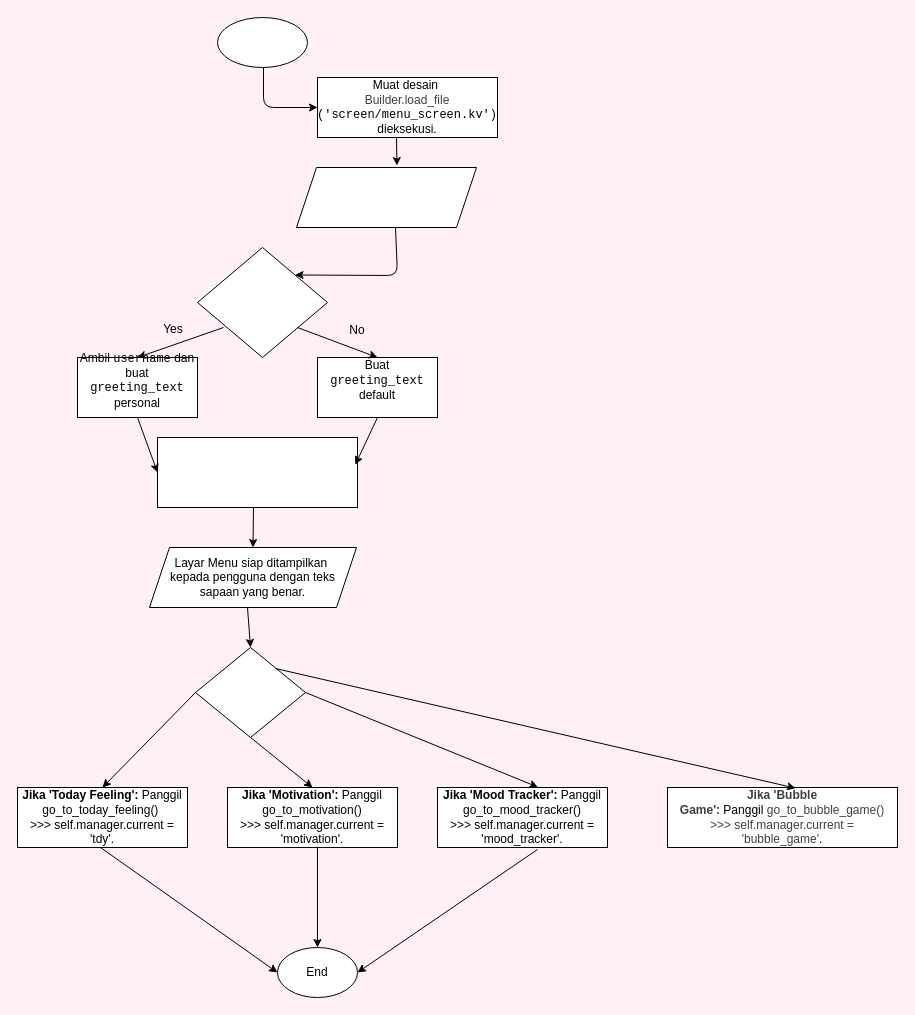
Image size: 915x1015. Some labels were removed from this diagram. The shapes that lost their labels are listed below. From the top down, each one's centre as x and y in pixels, then its label:
At (x=262, y=42): "Start".
At (x=386, y=197): "on_enter() : Men uScreen.on_enter() otomatis dipanggil.".
At (x=262, y=302): "pengecekan kondisi if user_store.exists ('user'):".
At (x=257, y=472): "self.ids.greeting_label.text diperbarui dengan teks sapaan yang sesuai.".
At (x=250, y=692): "Tombol apa yang ditekan".
